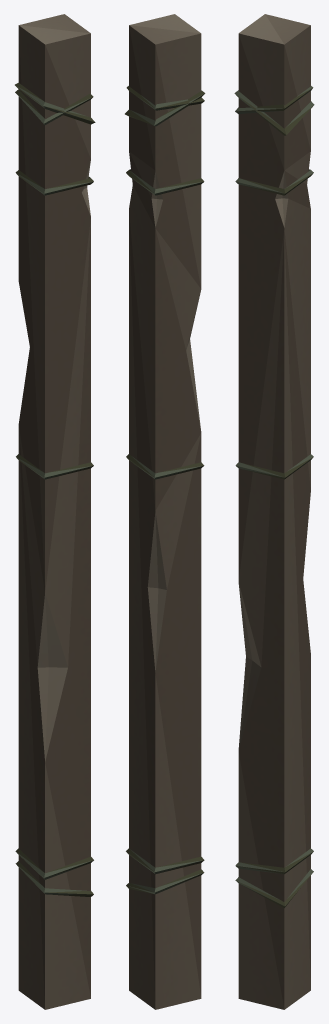
Rendered from Wood_7.fbx.
3 renders of one model, left to right at view 1: azimuth 30°, elevation 25°; view 2: azimuth 210°, elevation 25°; view 3: azimuth 330°, elevation 25°, orthographic.
Visible parts, largest first — view 1: polySurface1412; view 2: polySurface1412; view 3: polySurface1412.
Boxes of the visible parts, x1,y1,x2,y2 form: polySurface1412: [15, 14, 95, 1009]; polySurface1412: [125, 14, 205, 1009]; polySurface1412: [234, 14, 314, 1009].
Size of the model in its own units: 0.3759 by 6.63 by 0.3597.
